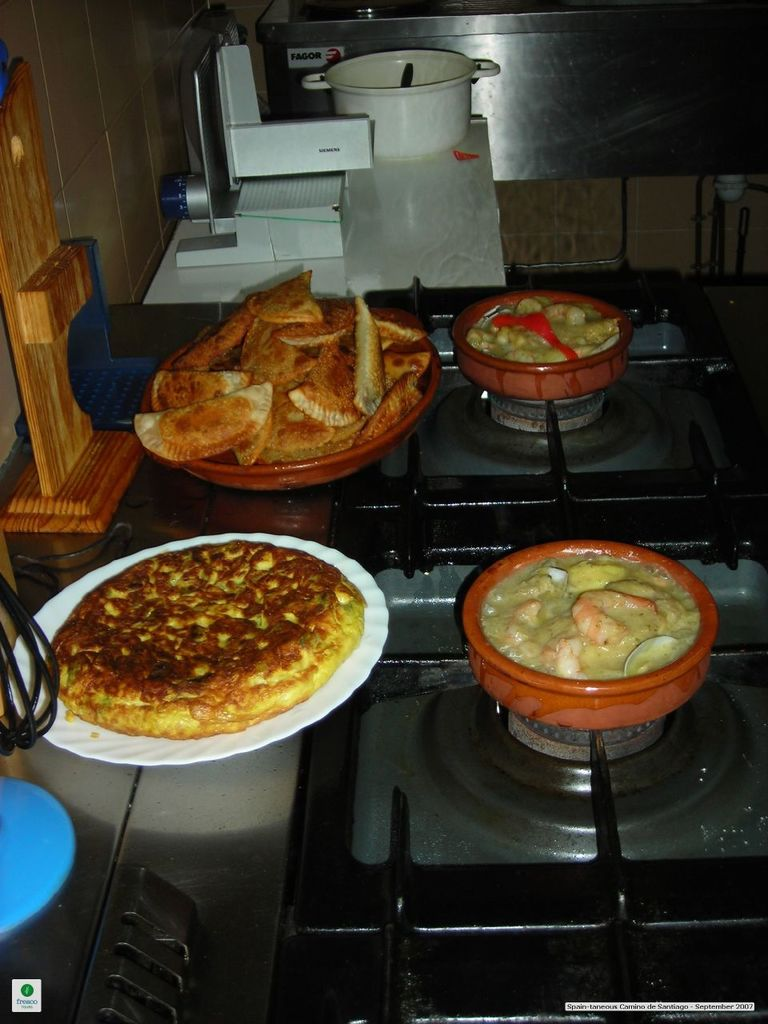Pizza: (48, 528, 380, 755)
